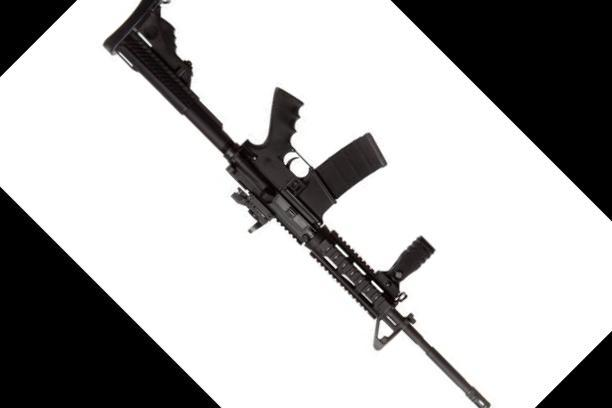larga: (102, 0, 492, 408)
